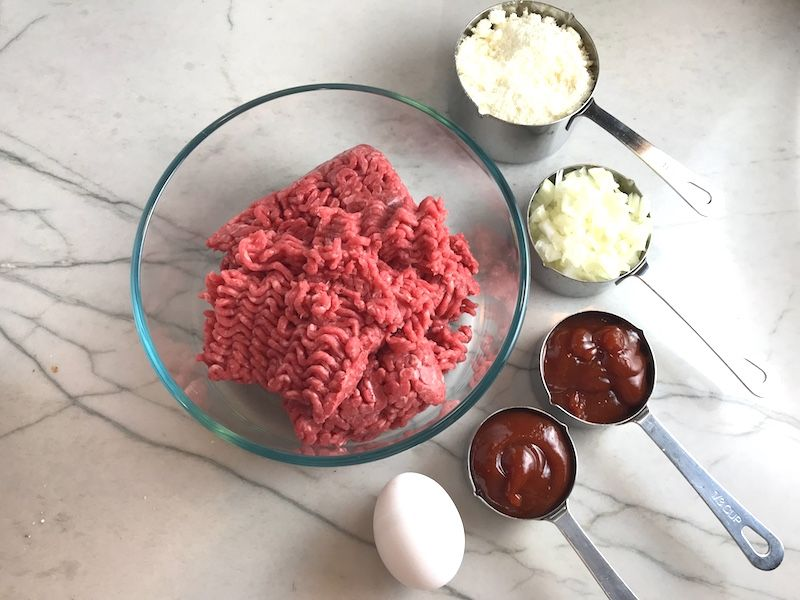ground_beef: (165, 151, 492, 433)
